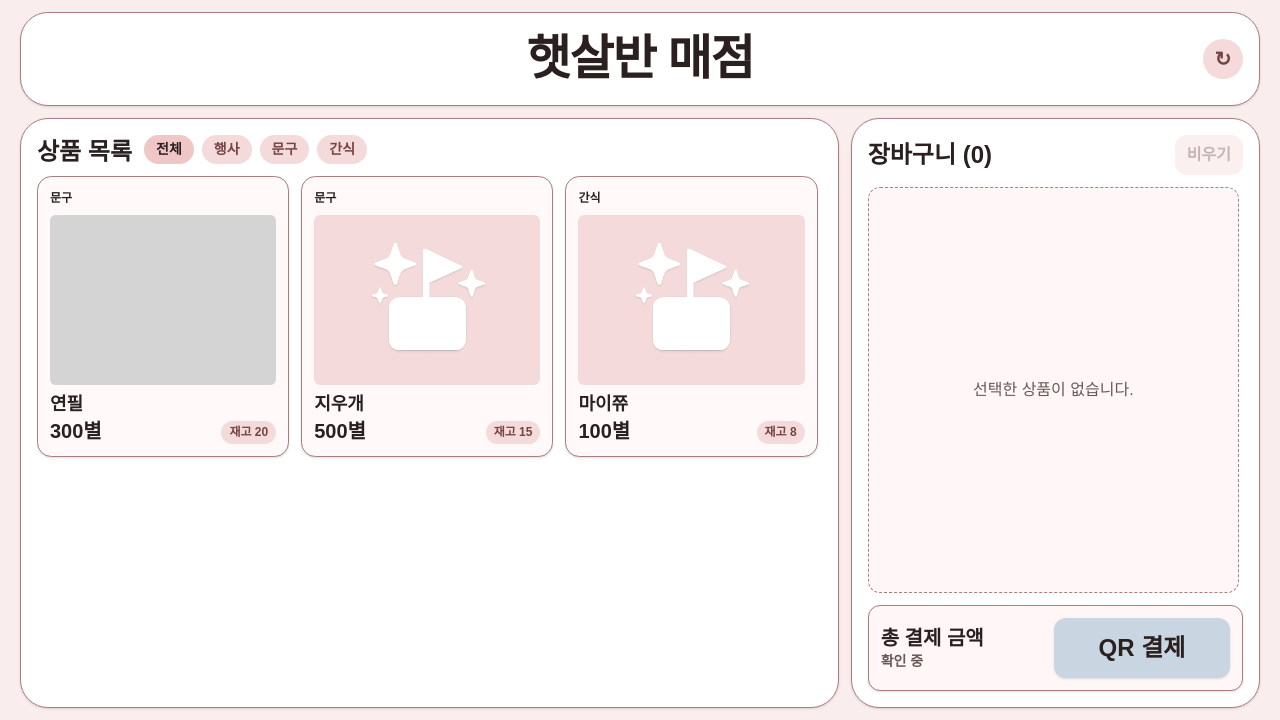
Test: KioskApp › renders a reference-style kiosk main screen with product cards, cart controls, clear button, and QR payment button
expect the heading "햇살반 매점" is shown: met, box [526, 32, 753, 85]
expect the heading "상품 목록" is shown: met, box [37, 136, 132, 166]
Click the button with aria-label "연필 300별 담기". click: [163, 317]
box: [37, 176, 289, 457]
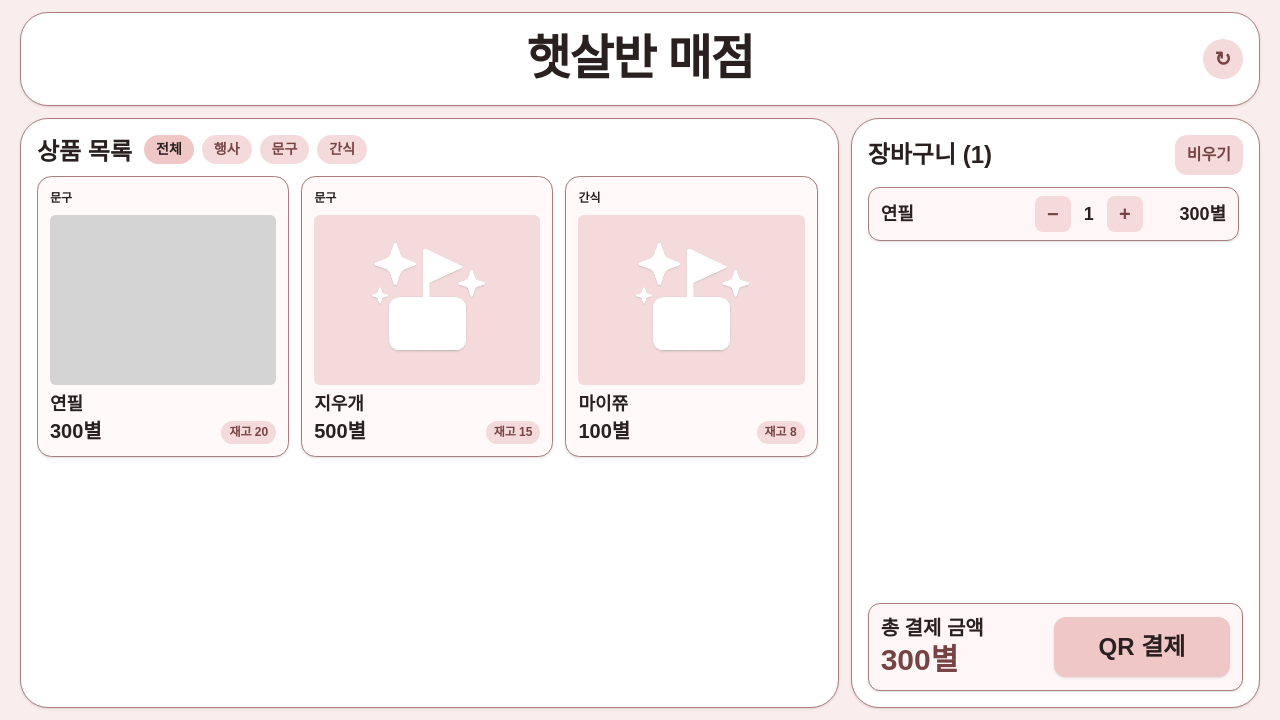
expect the heading "장바구니 (1)" is shown: met, box [868, 140, 992, 170]
expect the button named "연필 수량 줄이기" is shown: met, box [1035, 196, 1071, 232]
expect the button named "연필 수량 늘리기" is shown: met, box [1107, 196, 1143, 232]
